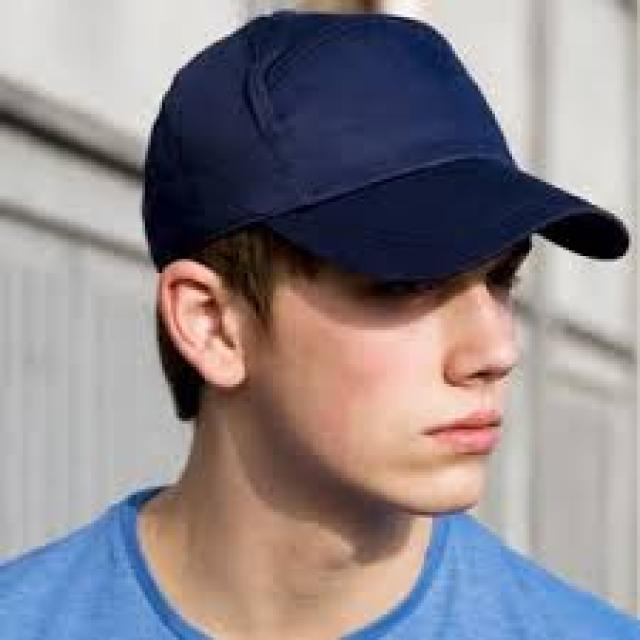cap: (131, 0, 640, 332)
